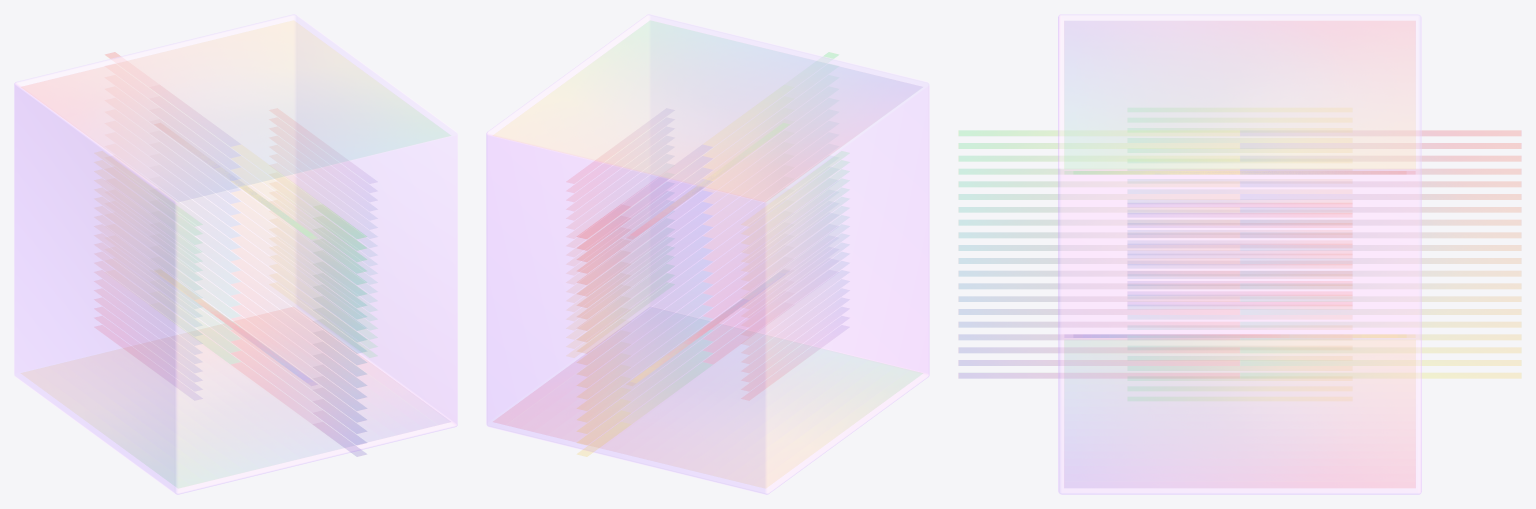
Rendered from gate.glb.
3 views of the same model, side by side, from view 1: azimuth 30°, elevation 25°; view 2: azimuth 150°, elevation 25°; view 3: azimuth 270°, elevation 25° (orthographic). The views are drawn at different scales.
Visible parts, largest first — view 1: gate; view 2: gate; view 3: gate.
Boxes of the visible parts, bbox=[...] form: gate: bbox=[14, 14, 457, 494]; gate: bbox=[486, 14, 929, 494]; gate: bbox=[959, 14, 1520, 494].
Bounding box in the file's own units: 2.31 × 2.31 × 3.57.
Materials: 3 (2 with a texture image).
